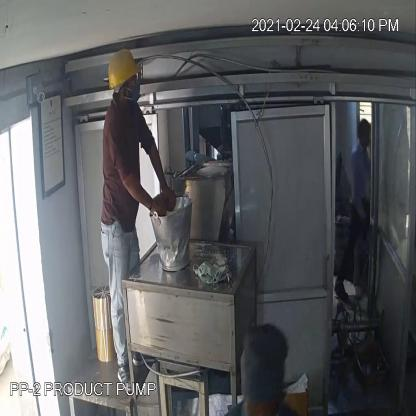helmet: (107, 46, 143, 90)
